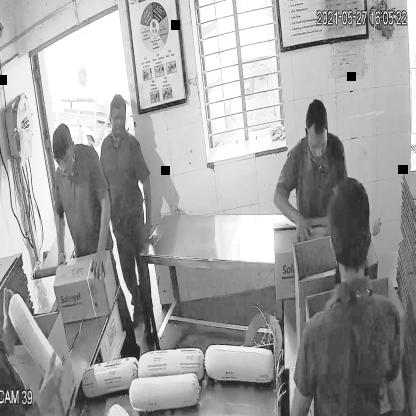no_goggles: (307, 135, 331, 158), (52, 152, 75, 174)
